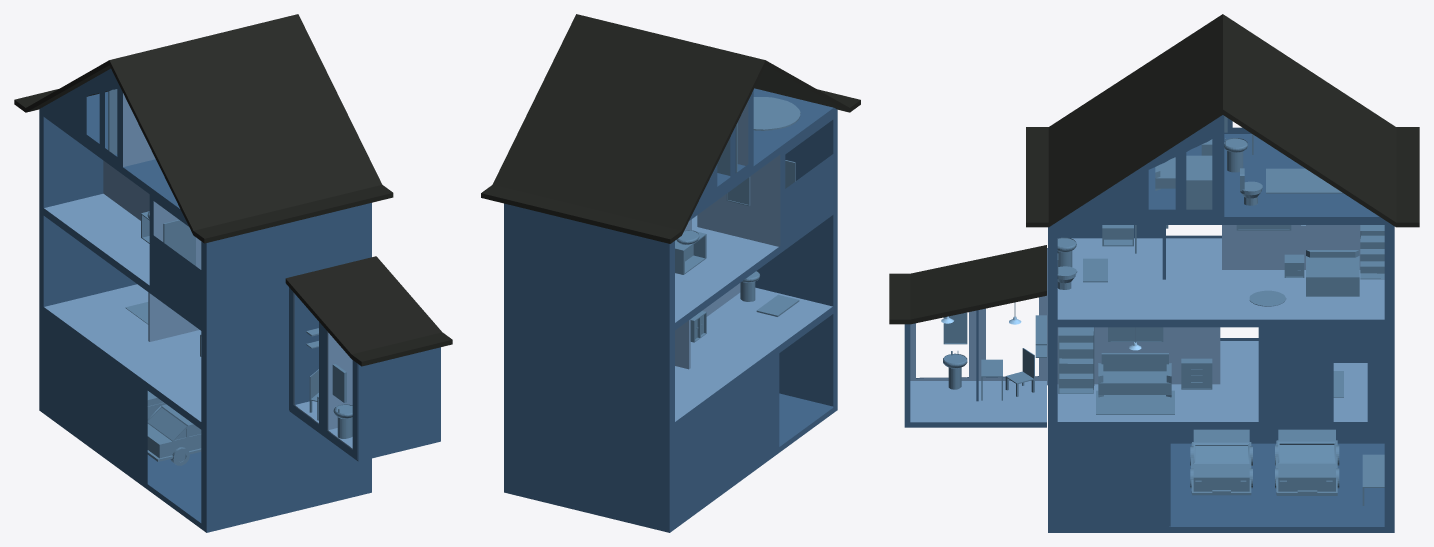
The model's file is house-update-transformed.glb.
The picture shows the model from 3 angles, left to right: view 1: azimuth 30°, elevation 25°; view 2: azimuth 150°, elevation 25°; view 3: azimuth 270°, elevation 25°; orthographic projection. The views are drawn at different scales.
Parts seen in each view (by area): view 1: Cube.123; view 2: Cube.123; view 3: Cube.123.
Boxes of the visible parts, <box> form: Cube.123: <box>14,14,452,532</box>; Cube.123: <box>481,14,860,532</box>; Cube.123: <box>889,14,1419,532</box>.
Size of the model in its own units: 16 by 33.52 by 37.57.
Materials: 2 (2 with a texture image).
